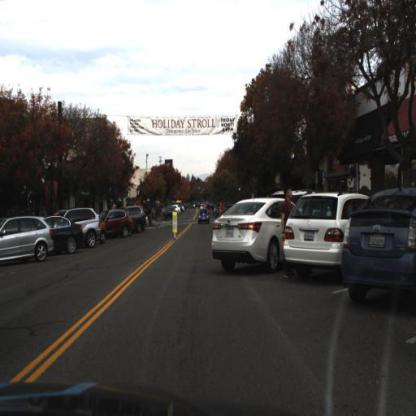car: (338, 188, 416, 293), (209, 196, 312, 266), (282, 192, 372, 267), (1, 213, 58, 265), (37, 213, 87, 253), (57, 208, 103, 247), (104, 210, 133, 240), (126, 205, 147, 233), (199, 208, 212, 226)
pedestrian: (279, 181, 297, 279)
